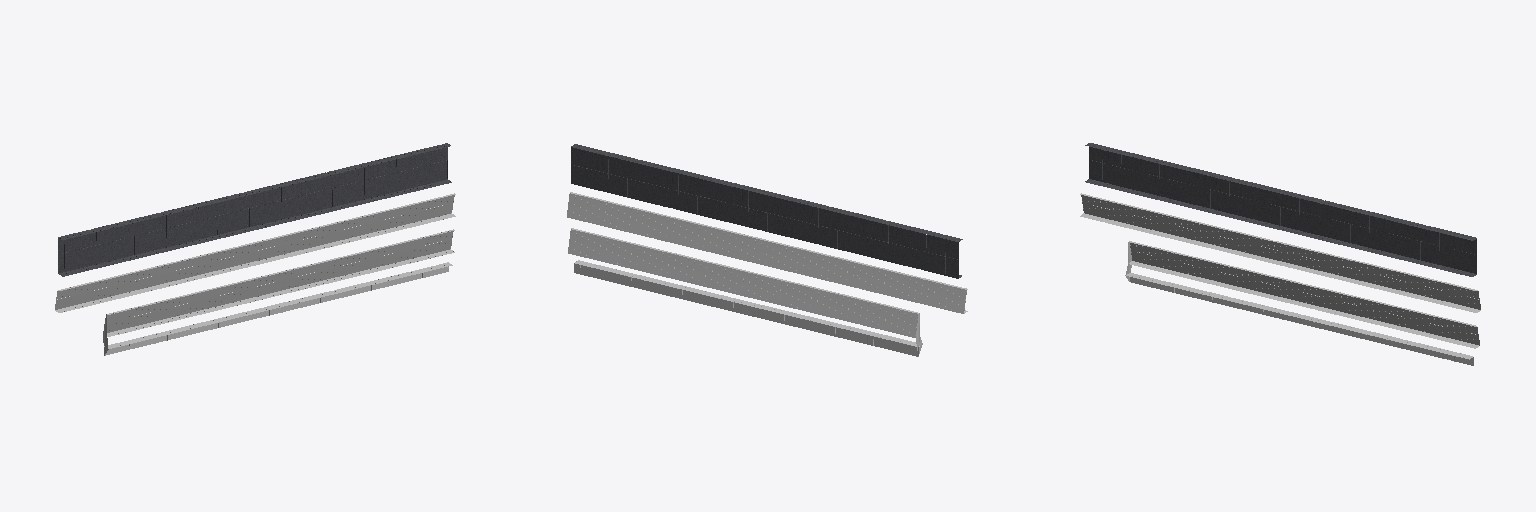
3 renders of one model, left to right at view 1: azimuth 30°, elevation 25°; view 2: azimuth 150°, elevation 25°; view 3: azimuth 330°, elevation 25°, orthographic.
Parts seen in each view (by area): view 1: RightLabWall; view 2: RightLabWall; view 3: RightLabWall.
Part boxes in pixels (x1,y1,x2,y2): RightLabWall: (55, 143, 455, 355); RightLabWall: (567, 144, 967, 356); RightLabWall: (1080, 143, 1480, 365).
Size of the model in its own units: 141 by 43.19 by 4.48.
7 materials, 1 textured.